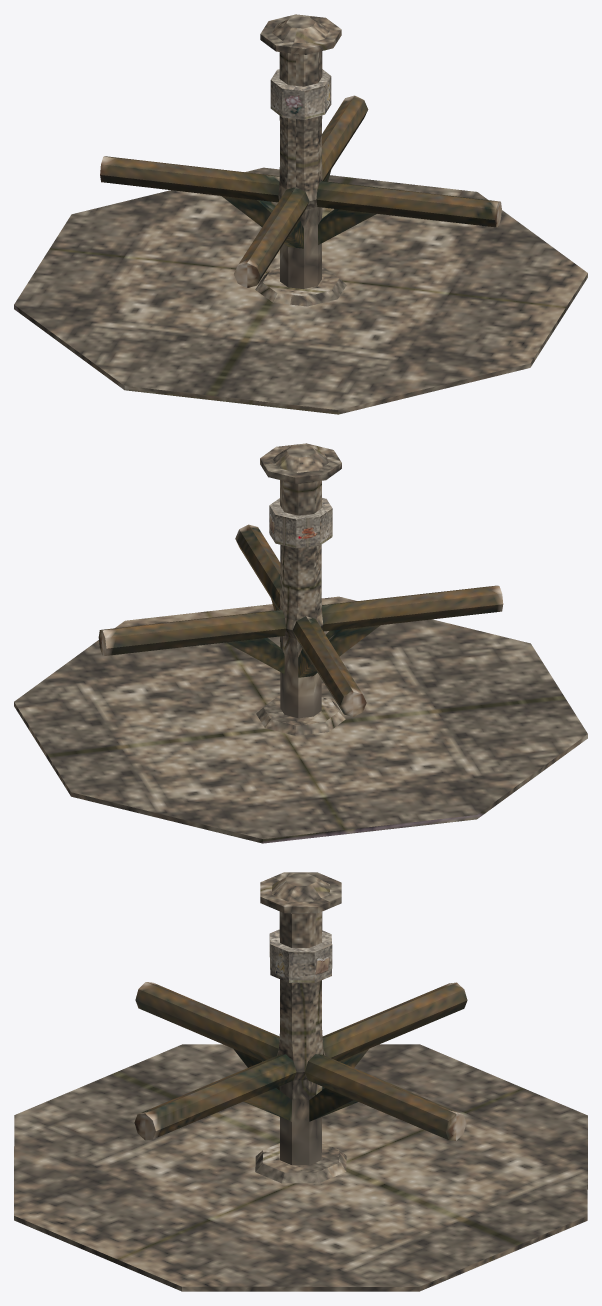
File: m_reel_1_all.fbx
3 renders of one model, top to bottom at view 1: azimuth 30°, elevation 25°; view 2: azimuth 150°, elevation 25°; view 3: azimuth 270°, elevation 25°, orthographic. The views are drawn at different scales.
Visible parts, largest first — view 1: f_freel, f_spin, f_spin_stone; view 2: f_freel, f_spin, f_spin_stone; view 3: f_freel, f_spin, f_spin_stone.
Part boxes in pixels (x1,y1,x2,y2): f_freel: (14,14,587,414); f_spin: (100,95,501,287); f_spin_stone: (270,69,331,119); f_freel: (14,443,587,843); f_spin: (98,524,503,716); f_spin_stone: (269,498,332,548); f_freel: (14,872,587,1291); f_spin: (134,982,467,1140); f_spin_stone: (269,929,332,983).
Size of the model in its own units: 930 by 519 by 930.
